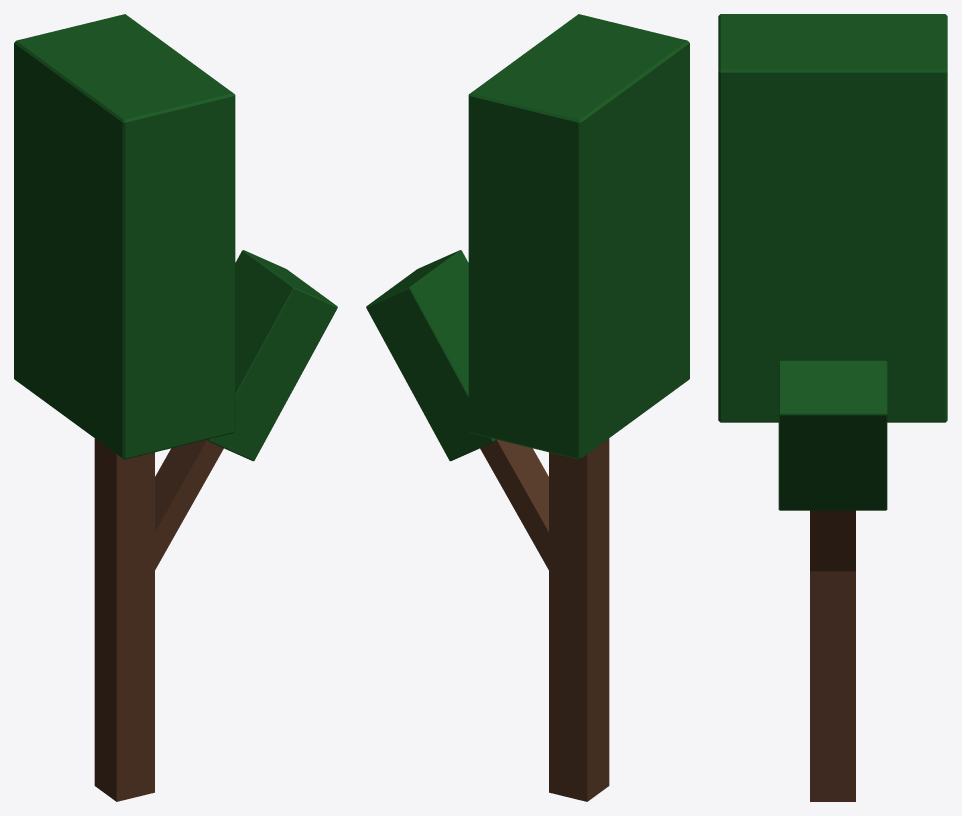
The model's file is SariyTree1-2.fbx.
The picture shows the model from 3 angles, left to right: view 1: azimuth 30°, elevation 25°; view 2: azimuth 150°, elevation 25°; view 3: azimuth 270°, elevation 25°; orthographic projection. The views are drawn at different scales.
Visible parts, largest first — view 1: Cube; view 2: Cube; view 3: Cube.
Boxes of the visible parts, x1=… form: Cube: x1=14, y1=14, x2=337, y2=801; Cube: x1=366, y1=14, x2=689, y2=801; Cube: x1=718, y1=14, x2=947, y2=801.
Size of the model in its own units: 1273 by 3599 by 997.
Materials: 1 (1 with a texture image).
